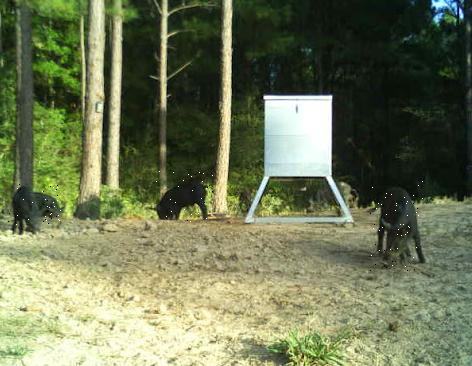Hog: (370, 181, 424, 271), (156, 171, 213, 223), (6, 184, 43, 238), (30, 185, 61, 225)
